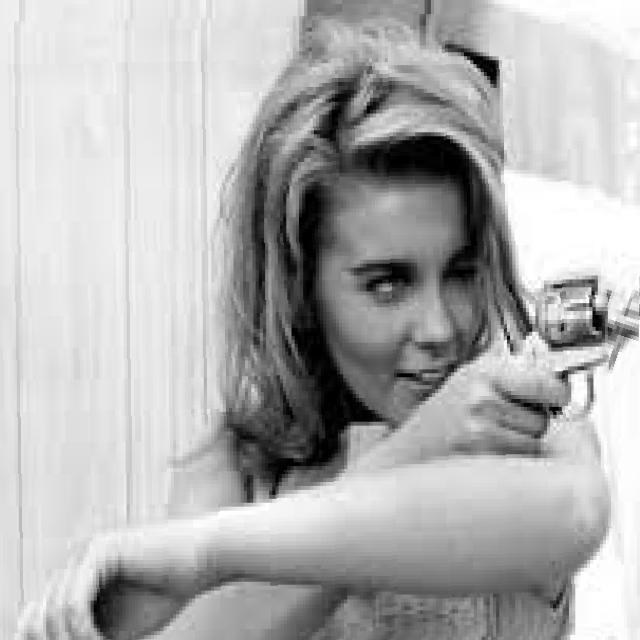Gun_Holder: (483, 262, 640, 413)
Person: (122, 16, 584, 640)
